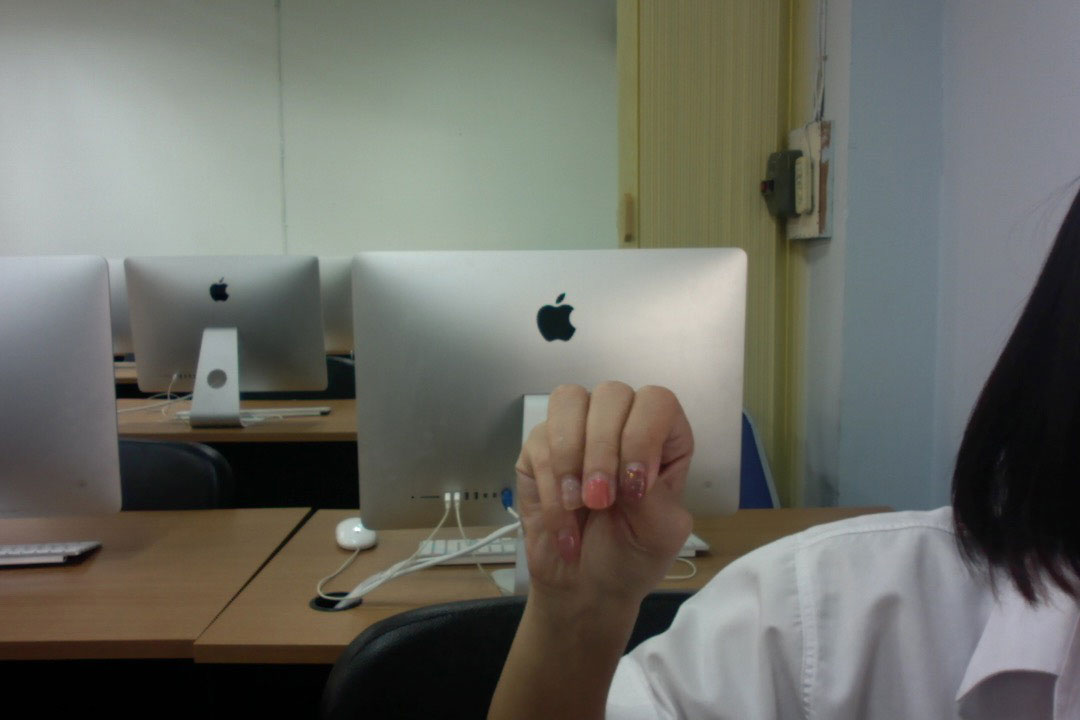mor: (510, 370, 699, 608)
